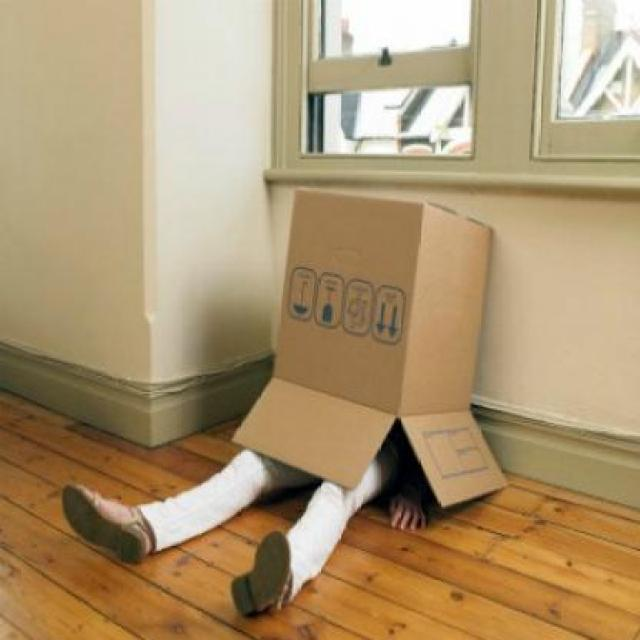box: (228, 180, 509, 514)
